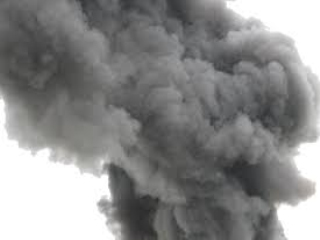smoke: (41, 14, 304, 232)
